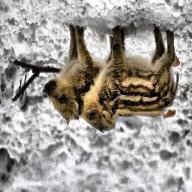boar: (84, 33, 190, 131), (40, 26, 134, 128)
